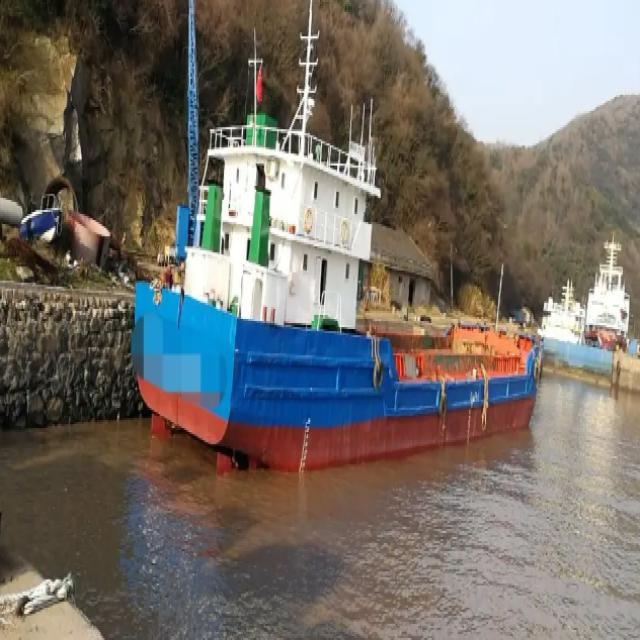fishing boat: (132, 24, 544, 486)
